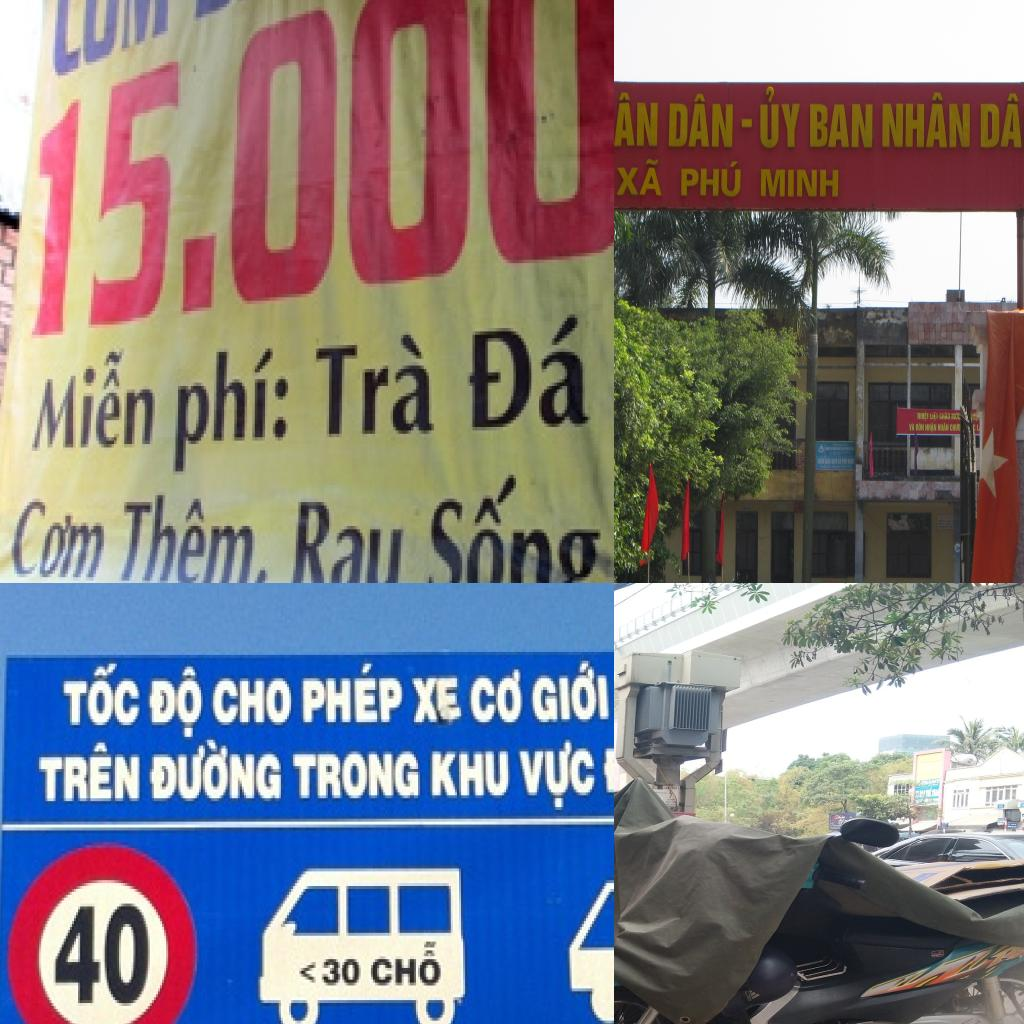text: (226, 0, 614, 307), (24, 52, 186, 345), (165, 332, 306, 478), (24, 338, 166, 458), (462, 311, 596, 437), (108, 495, 275, 583), (311, 328, 439, 441), (37, 898, 154, 1014), (277, 491, 413, 583), (146, 731, 287, 810), (1, 488, 116, 583), (50, 0, 175, 85), (287, 740, 426, 807), (299, 652, 410, 731), (33, 737, 150, 810), (54, 658, 146, 734), (518, 734, 600, 816), (424, 737, 518, 804), (530, 658, 614, 731), (209, 672, 297, 737), (880, 91, 972, 151), (146, 658, 209, 742), (364, 933, 444, 994), (465, 655, 529, 731), (176, 226, 226, 321), (402, 667, 465, 731), (668, 94, 735, 149), (808, 104, 874, 150), (758, 87, 803, 150), (978, 92, 1024, 149), (614, 91, 658, 148), (759, 168, 839, 198), (681, 160, 742, 198), (617, 155, 663, 197), (320, 954, 362, 992), (917, 411, 930, 422), (937, 422, 950, 432), (925, 423, 937, 433), (939, 412, 951, 420), (950, 423, 961, 431), (930, 412, 938, 422), (951, 412, 961, 420), (916, 422, 924, 432), (909, 422, 915, 432), (824, 458, 832, 465), (831, 458, 838, 465), (818, 457, 824, 465), (842, 457, 848, 465), (837, 457, 842, 465), (972, 424, 976, 432), (976, 424, 980, 432)
